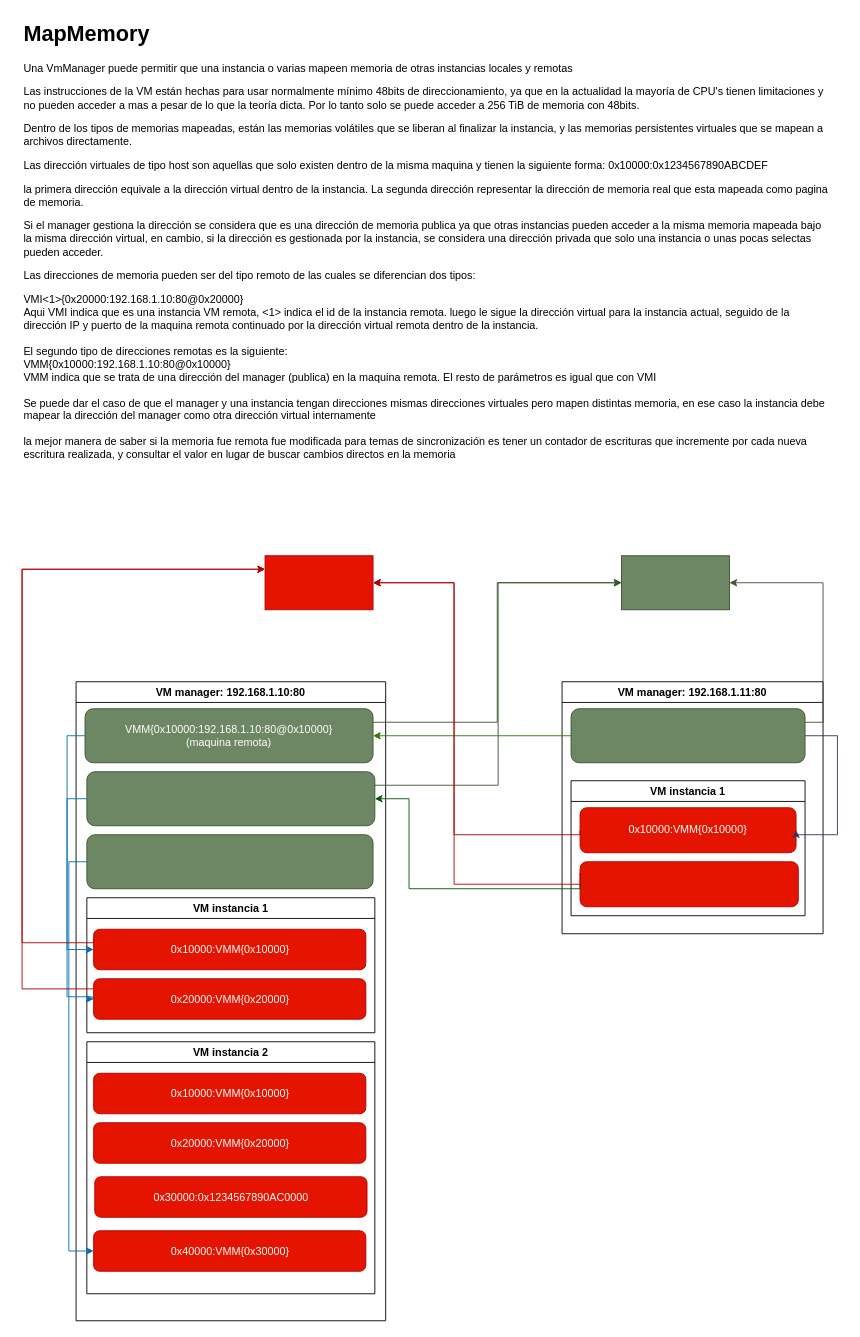
Image size: 860x1337. Some labels were removed from this diagram. Here are the shapes that lost their labels. From the top down, the centre of each, then its label:
At (x=318, y=582): "Direcciones privadas".
At (x=675, y=582): "Direcciones publicas".
At (x=687, y=735): "0x10000:0x1234567890AB0000".
At (x=230, y=798): "VMI<1>{0x20000:192.168.1.10:80@0x20000} (maquina remota)".
At (x=229, y=861): "0x30000:0x1234567890CB0000".
At (x=688, y=884): "0x20000:0x1234567890AC0000".
